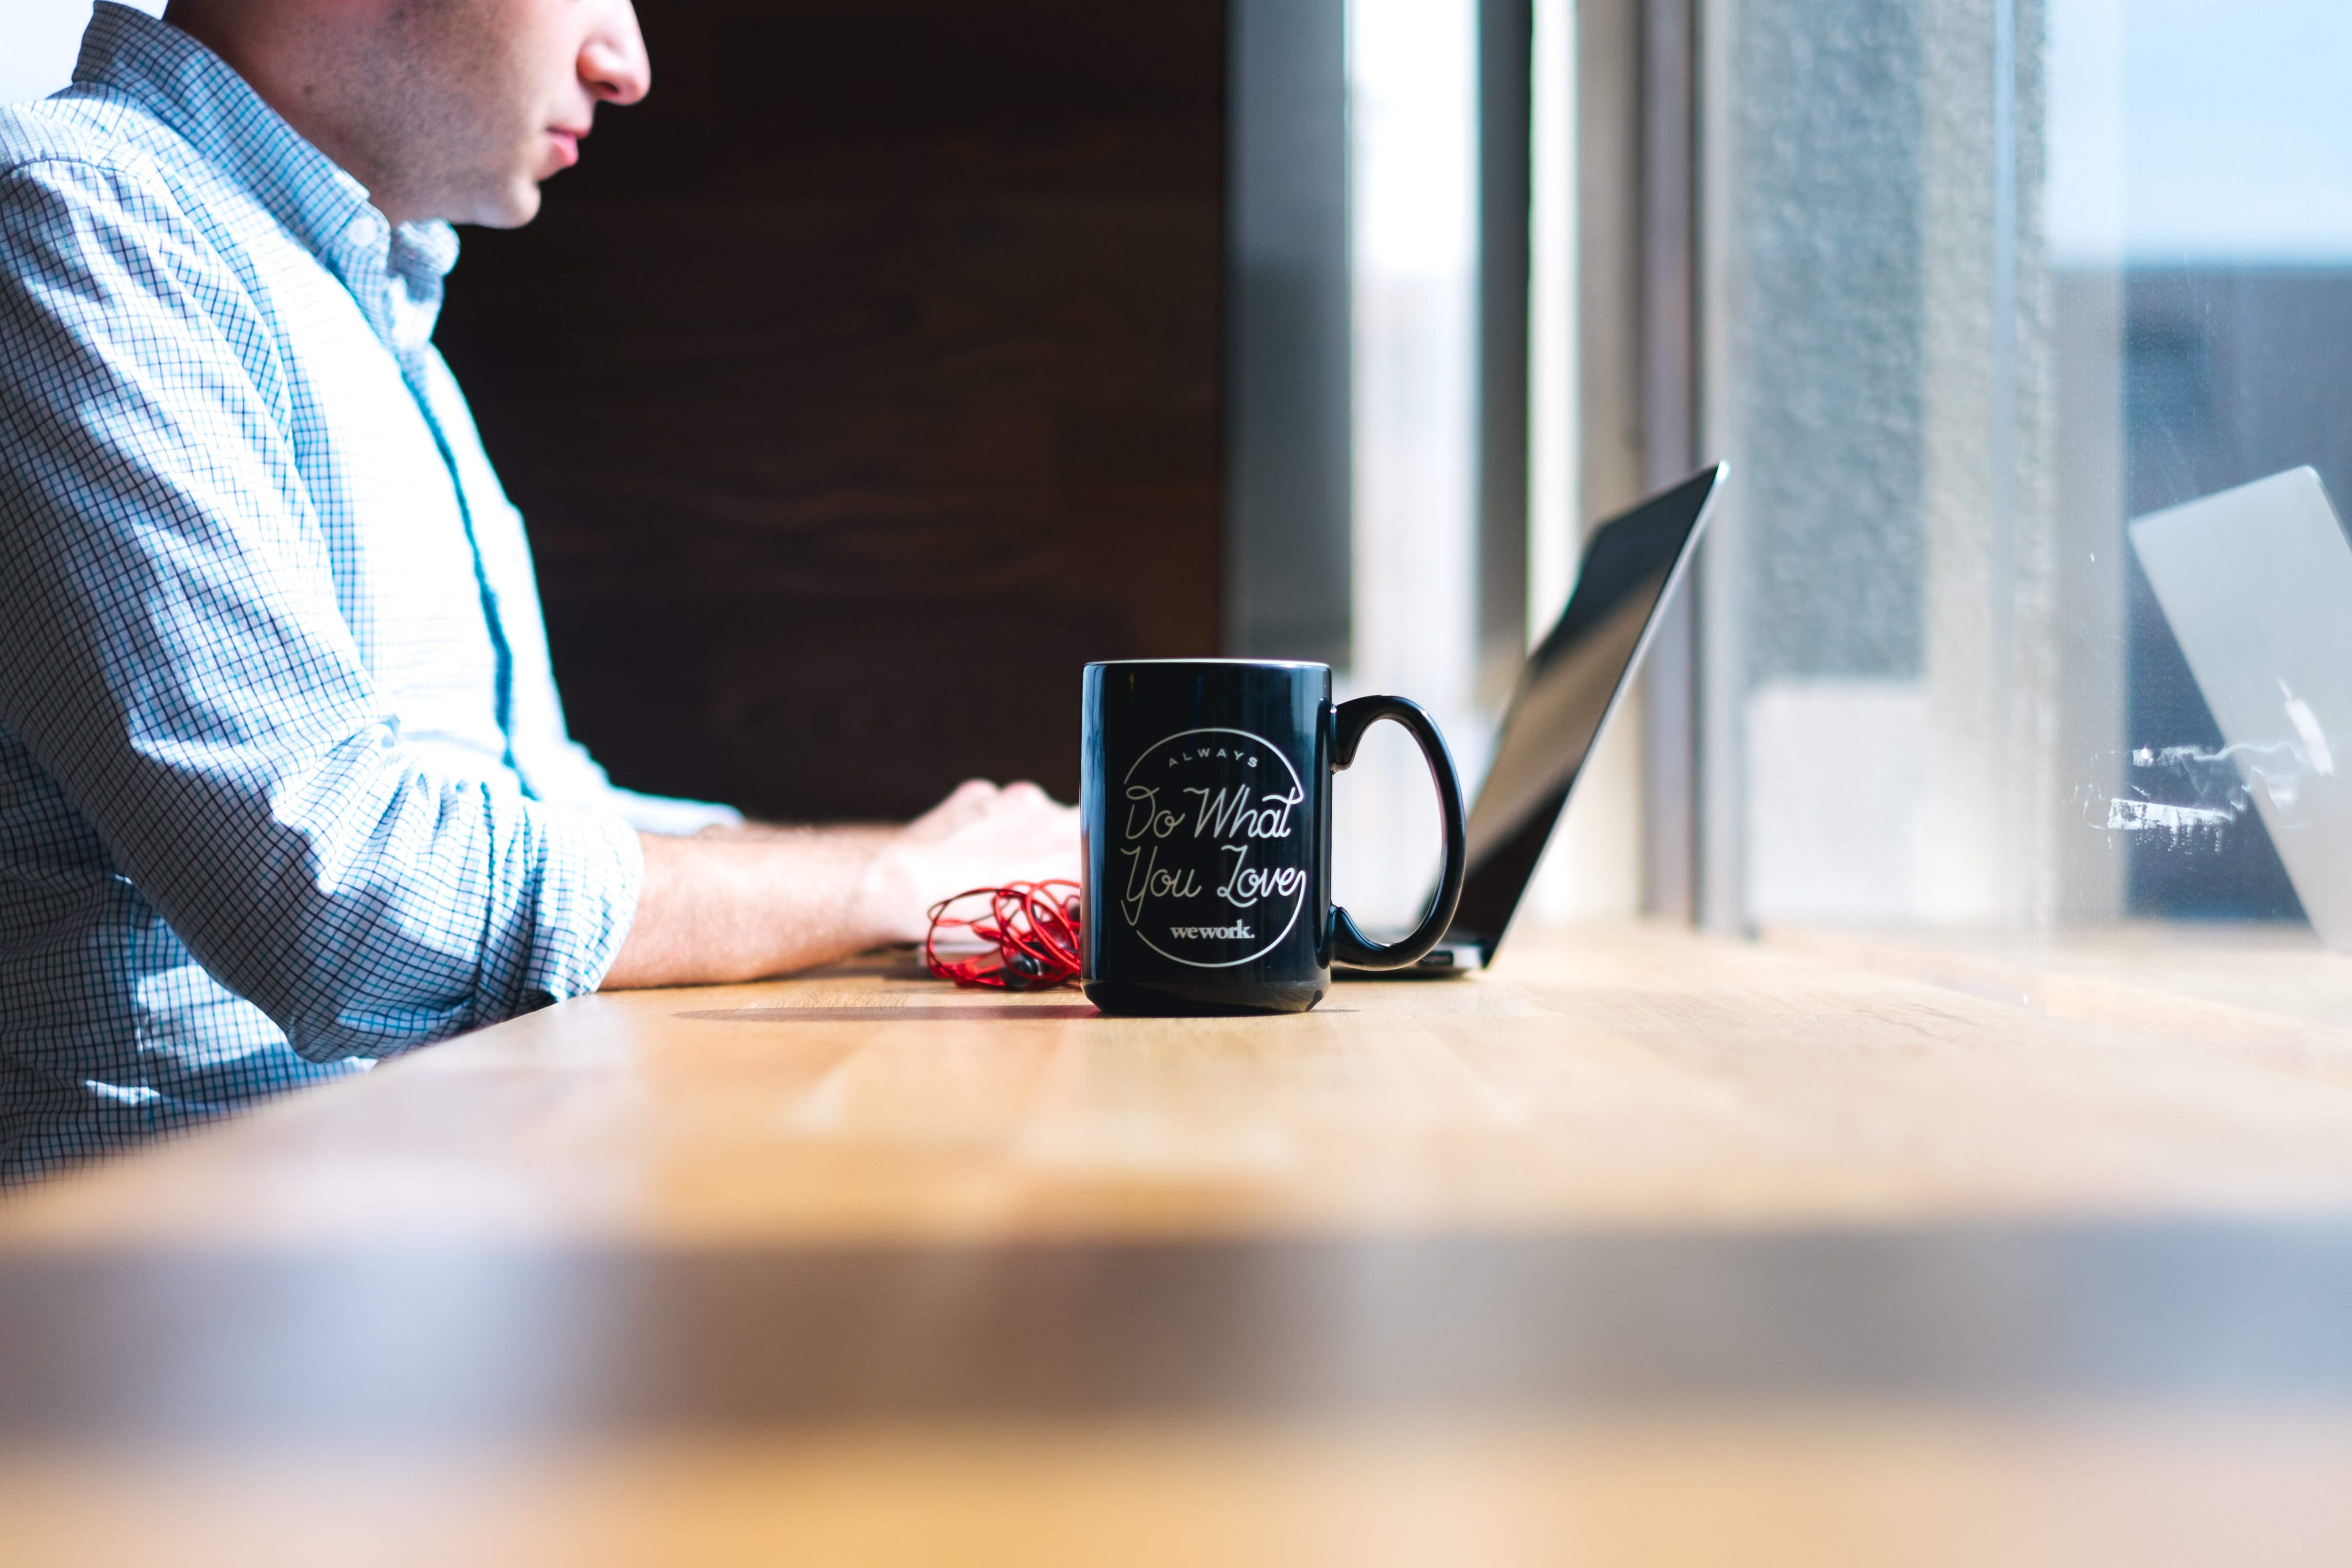wework: (1167, 919, 1251, 940)
